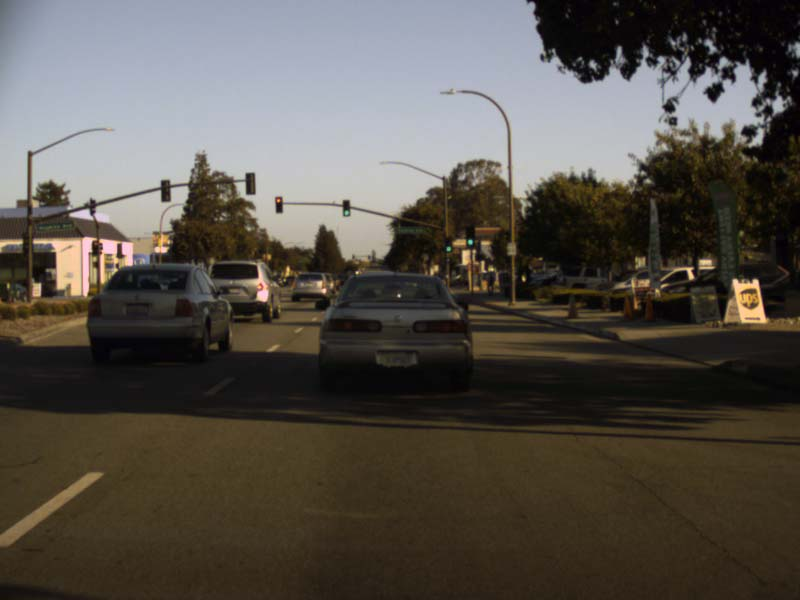Green: (466, 226, 474, 247), (342, 200, 350, 216), (445, 236, 451, 252)
Red: (274, 196, 283, 212), (92, 241, 97, 253)
